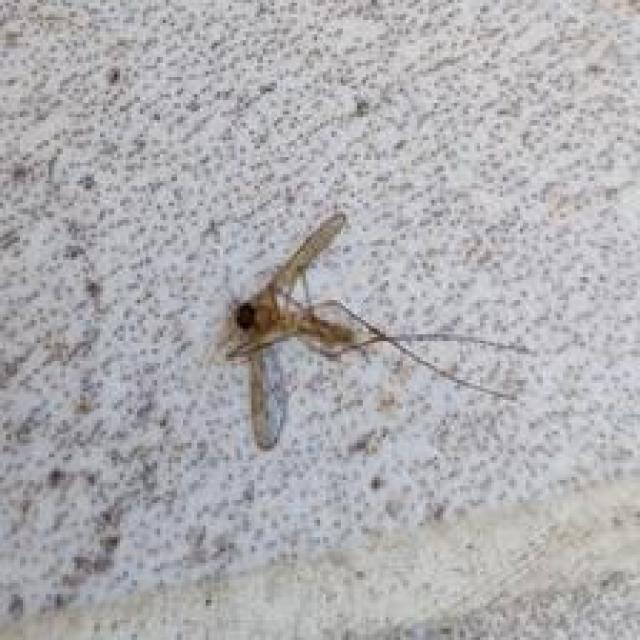Culex: (212, 210, 534, 453)
